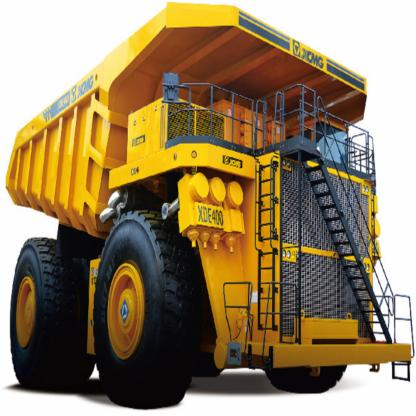dump_truck: (5, 1, 414, 402)
